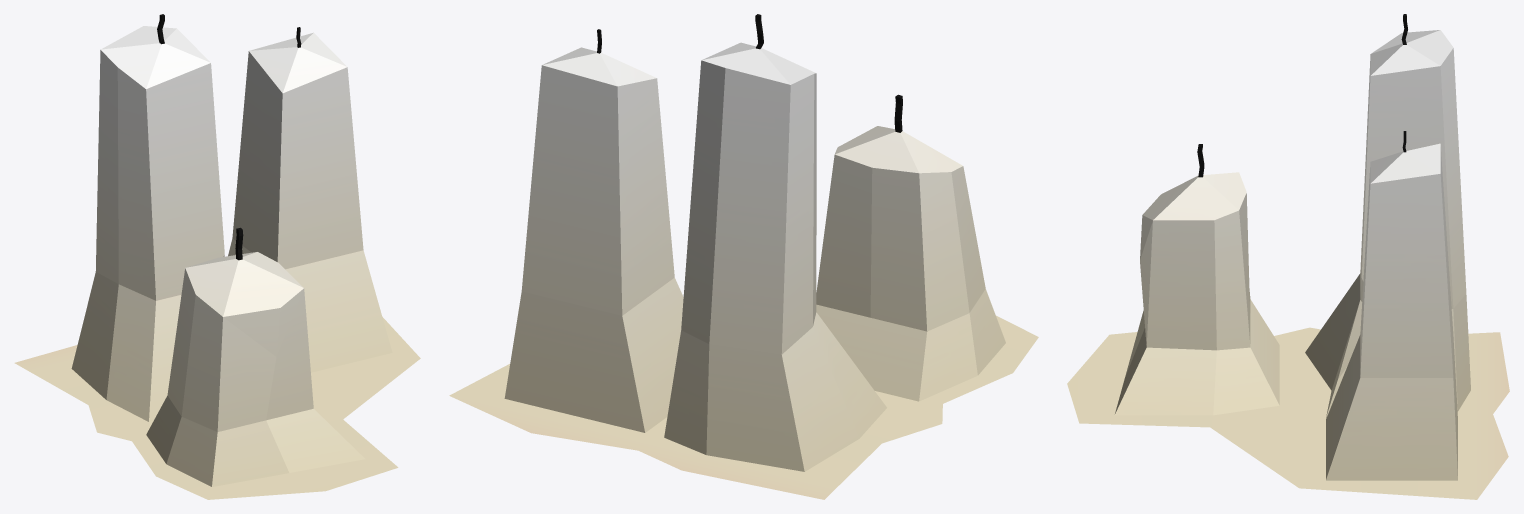
The model's file is candles.FBX.
The picture shows the model from 3 angles, left to right: view 1: azimuth 30°, elevation 25°; view 2: azimuth 150°, elevation 25°; view 3: azimuth 270°, elevation 25°; orthographic projection. The views are drawn at different scales.
Parts seen in each view (by area): view 1: Object005; view 2: Object005; view 3: Object005.
Boxes of the visible parts, x1,y1,x2,y2 form: Object005: [14, 14, 420, 499]; Object005: [449, 14, 1038, 499]; Object005: [1067, 14, 1509, 499].
Size of the model in its own units: 38.42 by 41.59 by 38.22.
